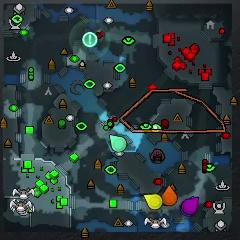Other: (82, 31, 97, 47)
p1: (180, 196, 195, 217)
p2: (110, 135, 126, 152)
p3: (182, 197, 198, 214)
p4: (143, 194, 163, 210)
p5: (162, 185, 177, 205)
